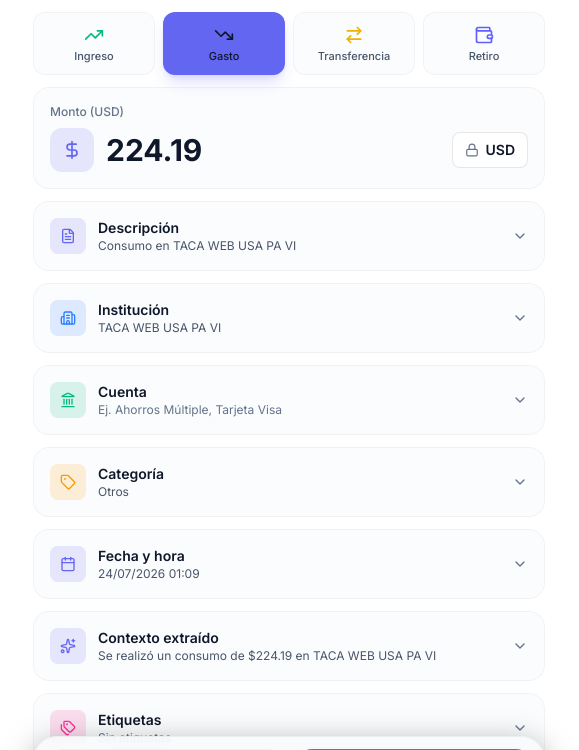
Test: ScanDetailsForm › keeps fields collapsed by default and reveals the institution picker on expand
Expected: the field with placeholder "Buscar institución" is not shown
Click the button "Institución TACA WEB USA PA VI" at point(68, 318), box [34,284,544,352]
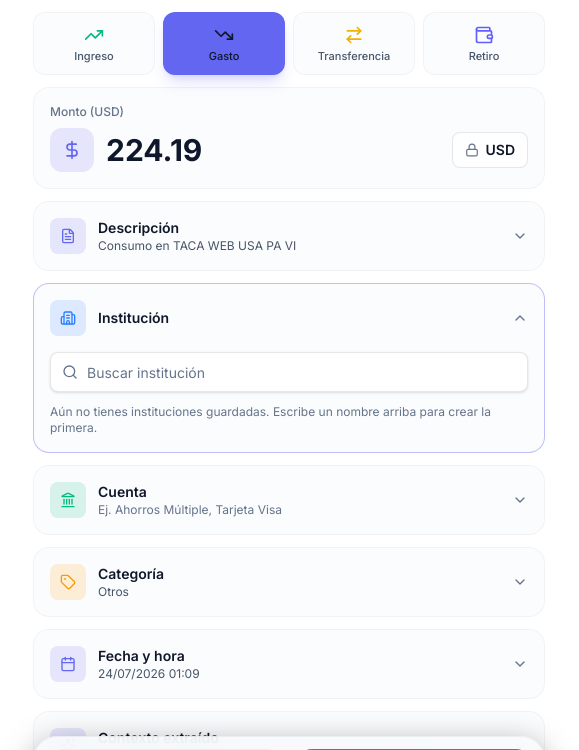
Expected: the field with placeholder "Buscar institución" is shown, [50,352,528,392]
